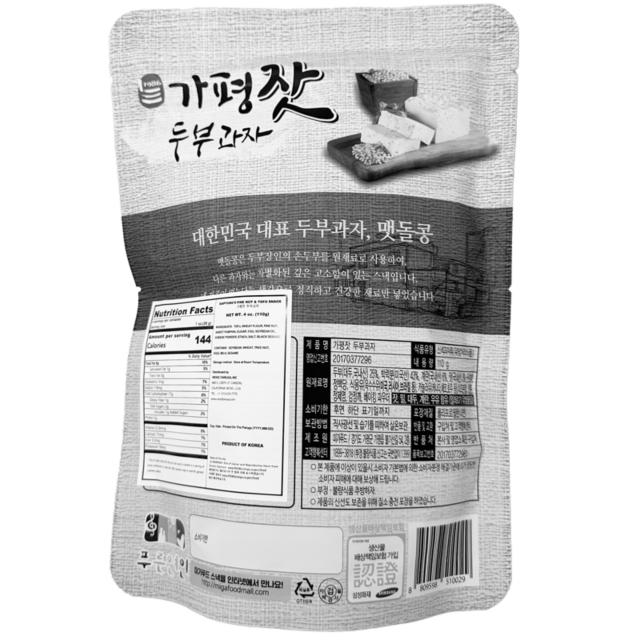Nutrition Label: (134, 285, 296, 503)
